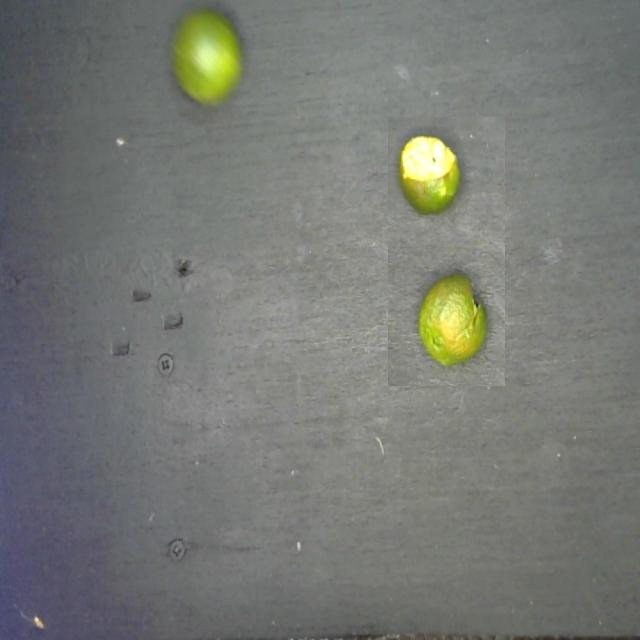biodegradable: (388, 117, 505, 386)
